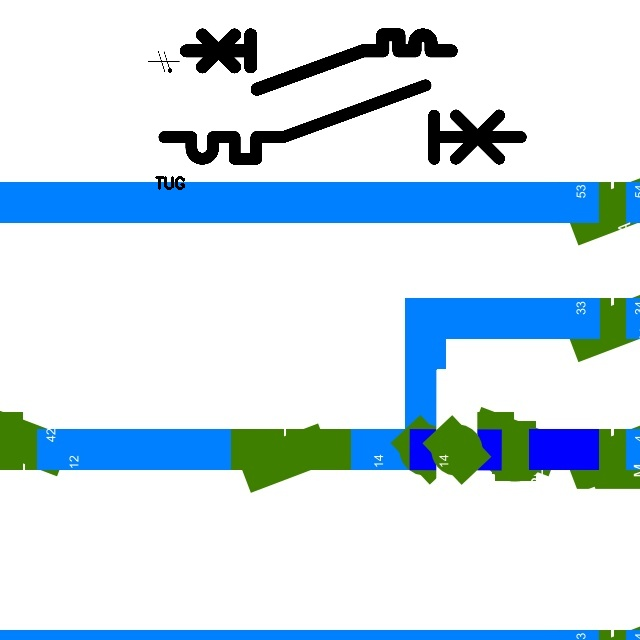interruptor_termomagnetico: (155, 76, 530, 168), (179, 28, 457, 96)
